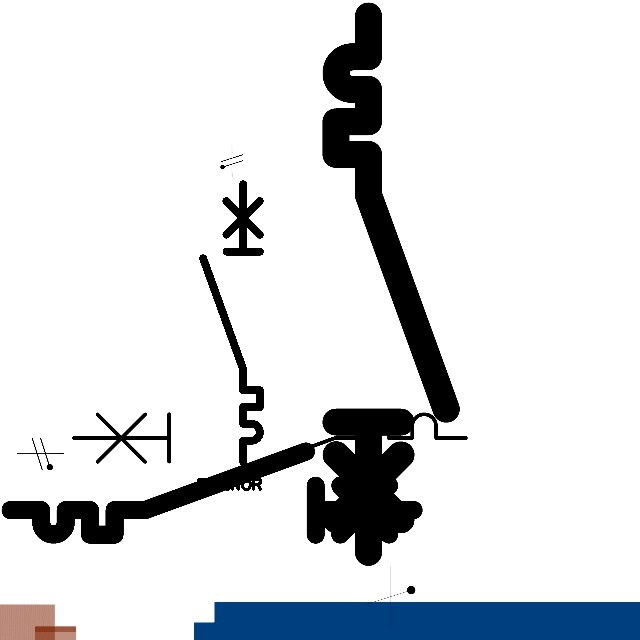interruptor_termomagnetico: (322, 2, 460, 566), (0, 441, 424, 545), (63, 404, 476, 505), (196, 177, 267, 469)
